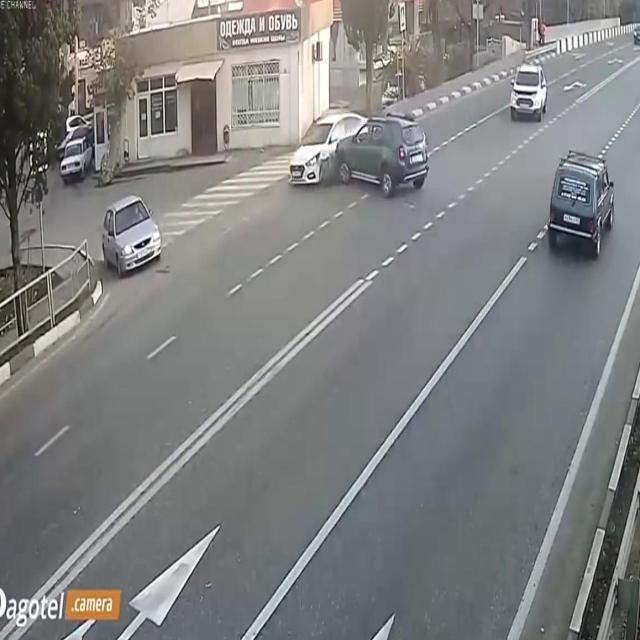accident: (282, 90, 434, 200)
